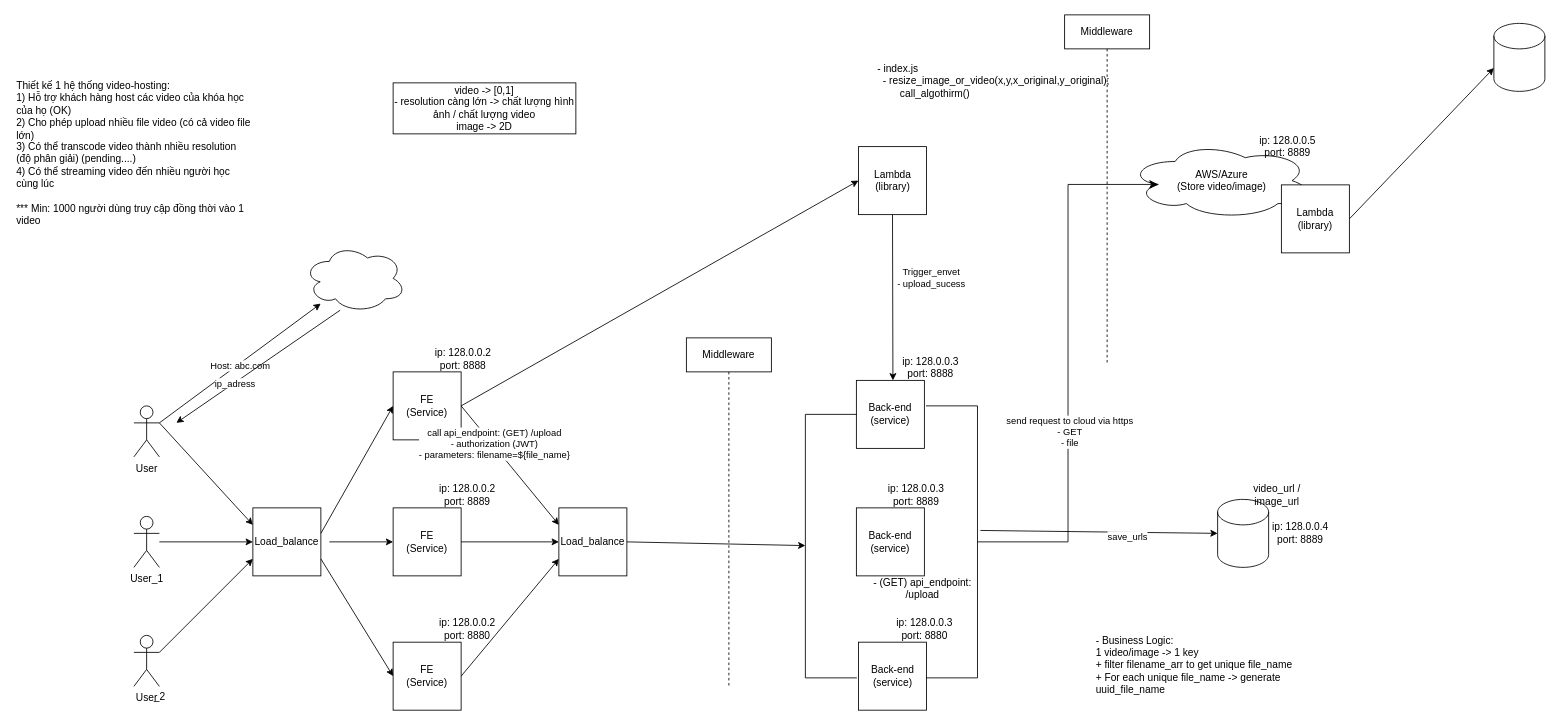
The diagram is 1560 pixels wide and 725 high, and some of its shapes have lost their labels. Here are the shapes that lost their labels. From the top down, the centre of each, then its label:
At point 1519,57: "S3".
At point 354,278: "DNS".
At point 1243,533: "DB".
